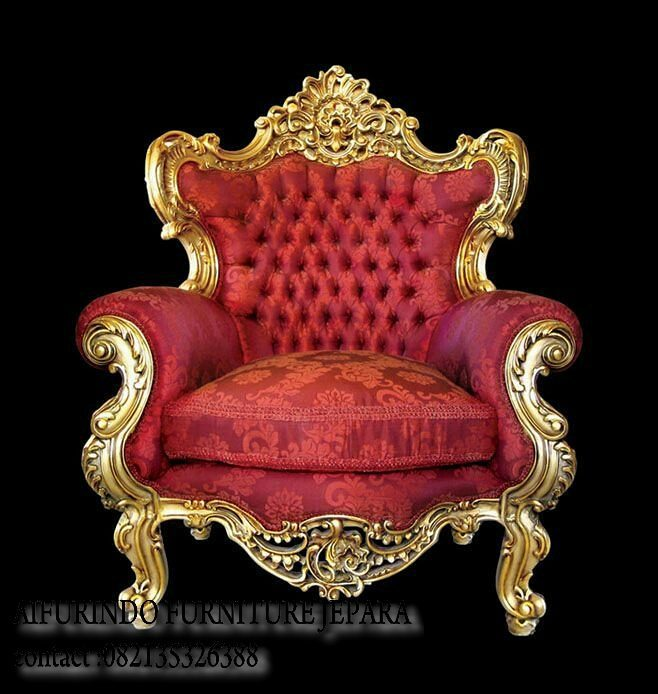Carving Chair: (98, 82, 591, 664)
